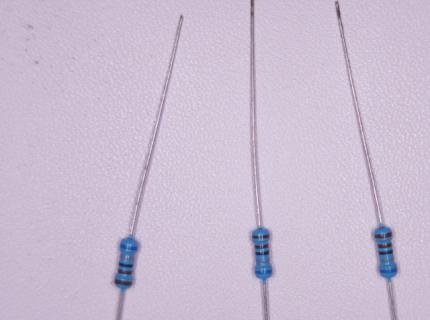Black band: (118, 262, 133, 268), (378, 249, 392, 255), (255, 250, 269, 255)
Blue band: (120, 244, 137, 250), (379, 268, 396, 273), (256, 270, 272, 274)
Brown band: (115, 278, 133, 286), (374, 232, 392, 238), (377, 242, 391, 248), (118, 269, 132, 275), (254, 244, 268, 249), (252, 234, 268, 238)
Grey band: (121, 254, 134, 260), (380, 257, 393, 262), (256, 259, 269, 263)
